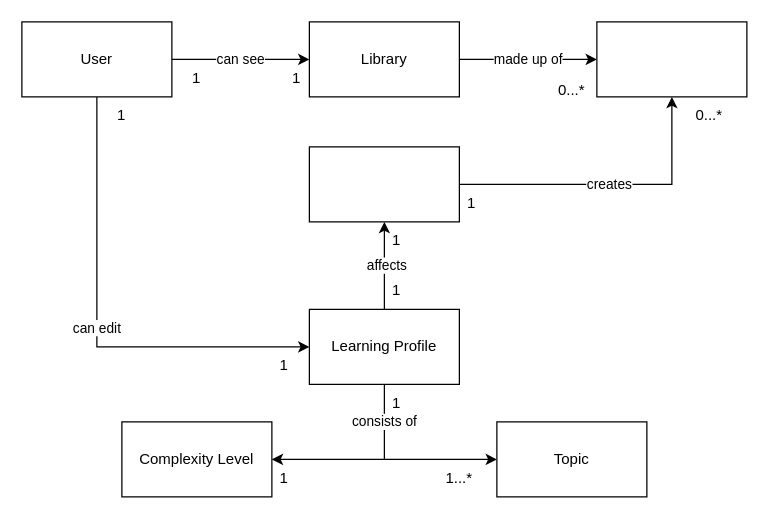
The diagram is 769 pixels wide and 519 high, and some of its shapes have lost their labels. The centre of each missing label's shape, as x and y in pixels:
"Fact" goes at (x=671, y=59).
"Fact Engine" goes at (x=383, y=184).
